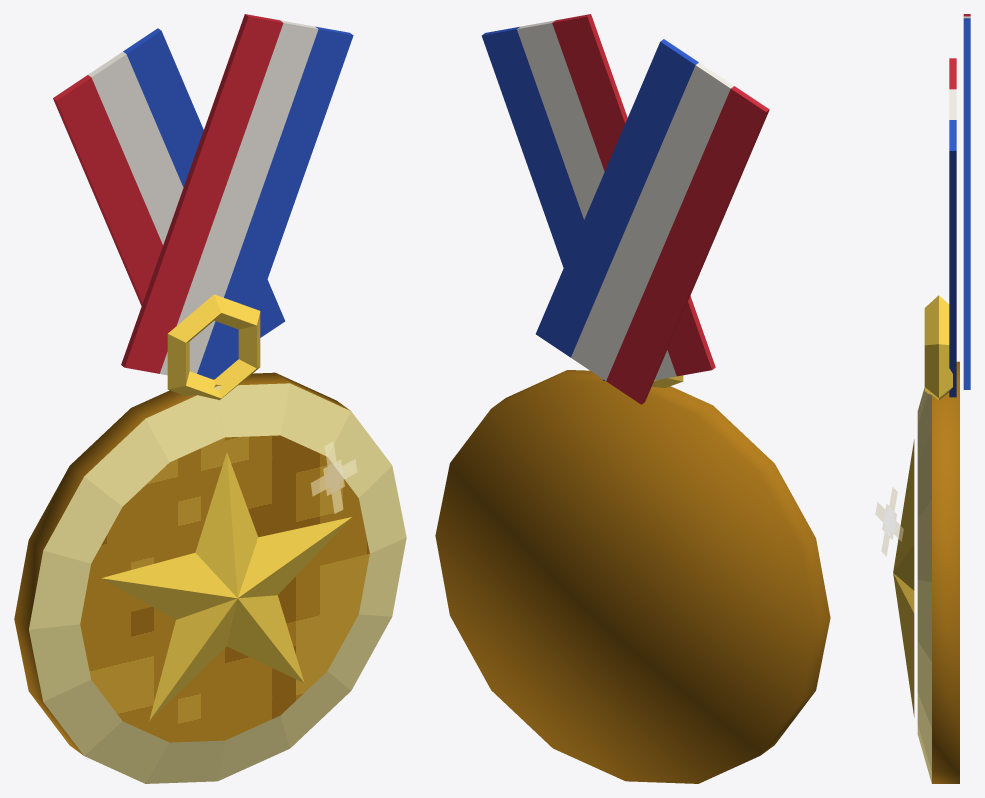
File: fun-medal.glb
3 views of the same model, side by side, from view 1: azimuth 30°, elevation 25°; view 2: azimuth 150°, elevation 25°; view 3: azimuth 270°, elevation 25° (orthographic). The views are drawn at different scales.
Visible parts, largest first — view 1: fun.medal; view 2: fun.medal; view 3: fun.medal.
Part boxes in pixels (x1=…): fun.medal: x1=14, y1=14, x2=406, y2=783; fun.medal: x1=435, y1=14, x2=830, y2=783; fun.medal: x1=875, y1=14, x2=970, y2=783.
Bounding box in the file's own units: 1.04 × 1.97 × 0.2737.
8 materials, 2 textured.
